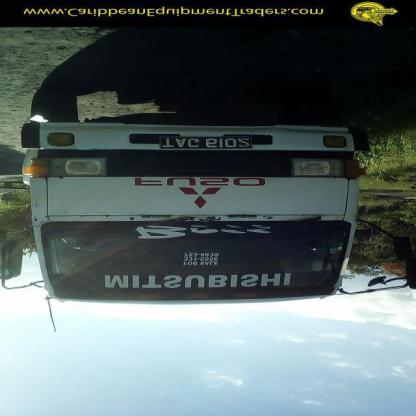truck: (1, 91, 377, 301)
